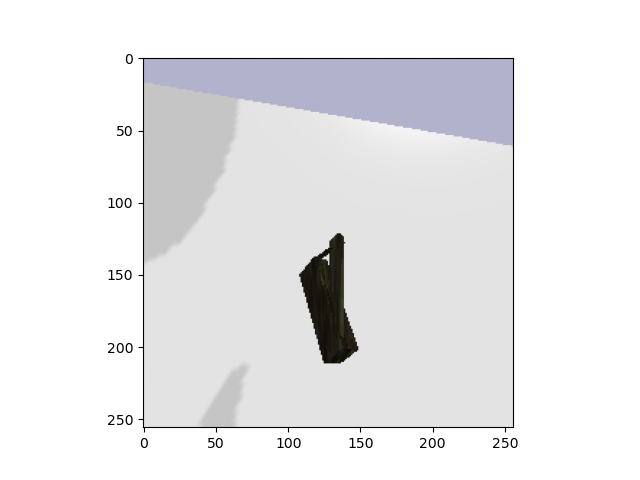v249b387_109: (293, 232, 375, 374)
